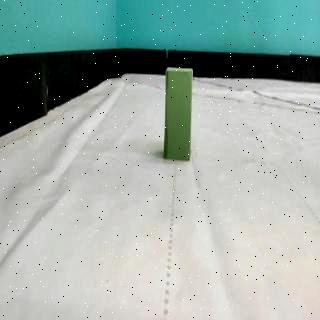greenbox: (164, 65, 194, 164)
